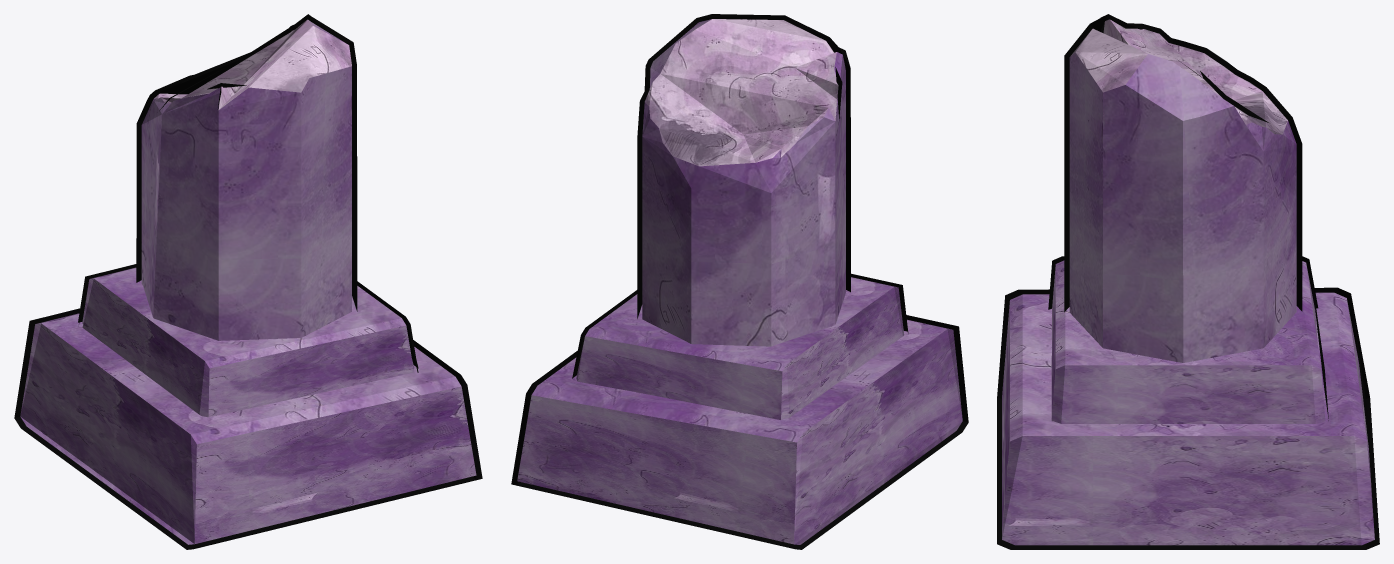
The model's file is entity209016.gltf.
3 views of the same model, side by side, from view 1: azimuth 30°, elevation 25°; view 2: azimuth 150°, elevation 25°; view 3: azimuth 270°, elevation 25° (orthographic). The views are drawn at different scales.
Visible parts, largest first — view 1: node_Str_Ruins_04; view 2: node_Str_Ruins_04; view 3: node_Str_Ruins_04.
Boxes of the visible parts, x1,y1,x2,y2 form: node_Str_Ruins_04: (14,14,482,549); node_Str_Ruins_04: (511,14,968,549); node_Str_Ruins_04: (997,14,1379,549).
Size of what is drawn, in the model's own units: 1.69 by 2.42 by 1.86.
